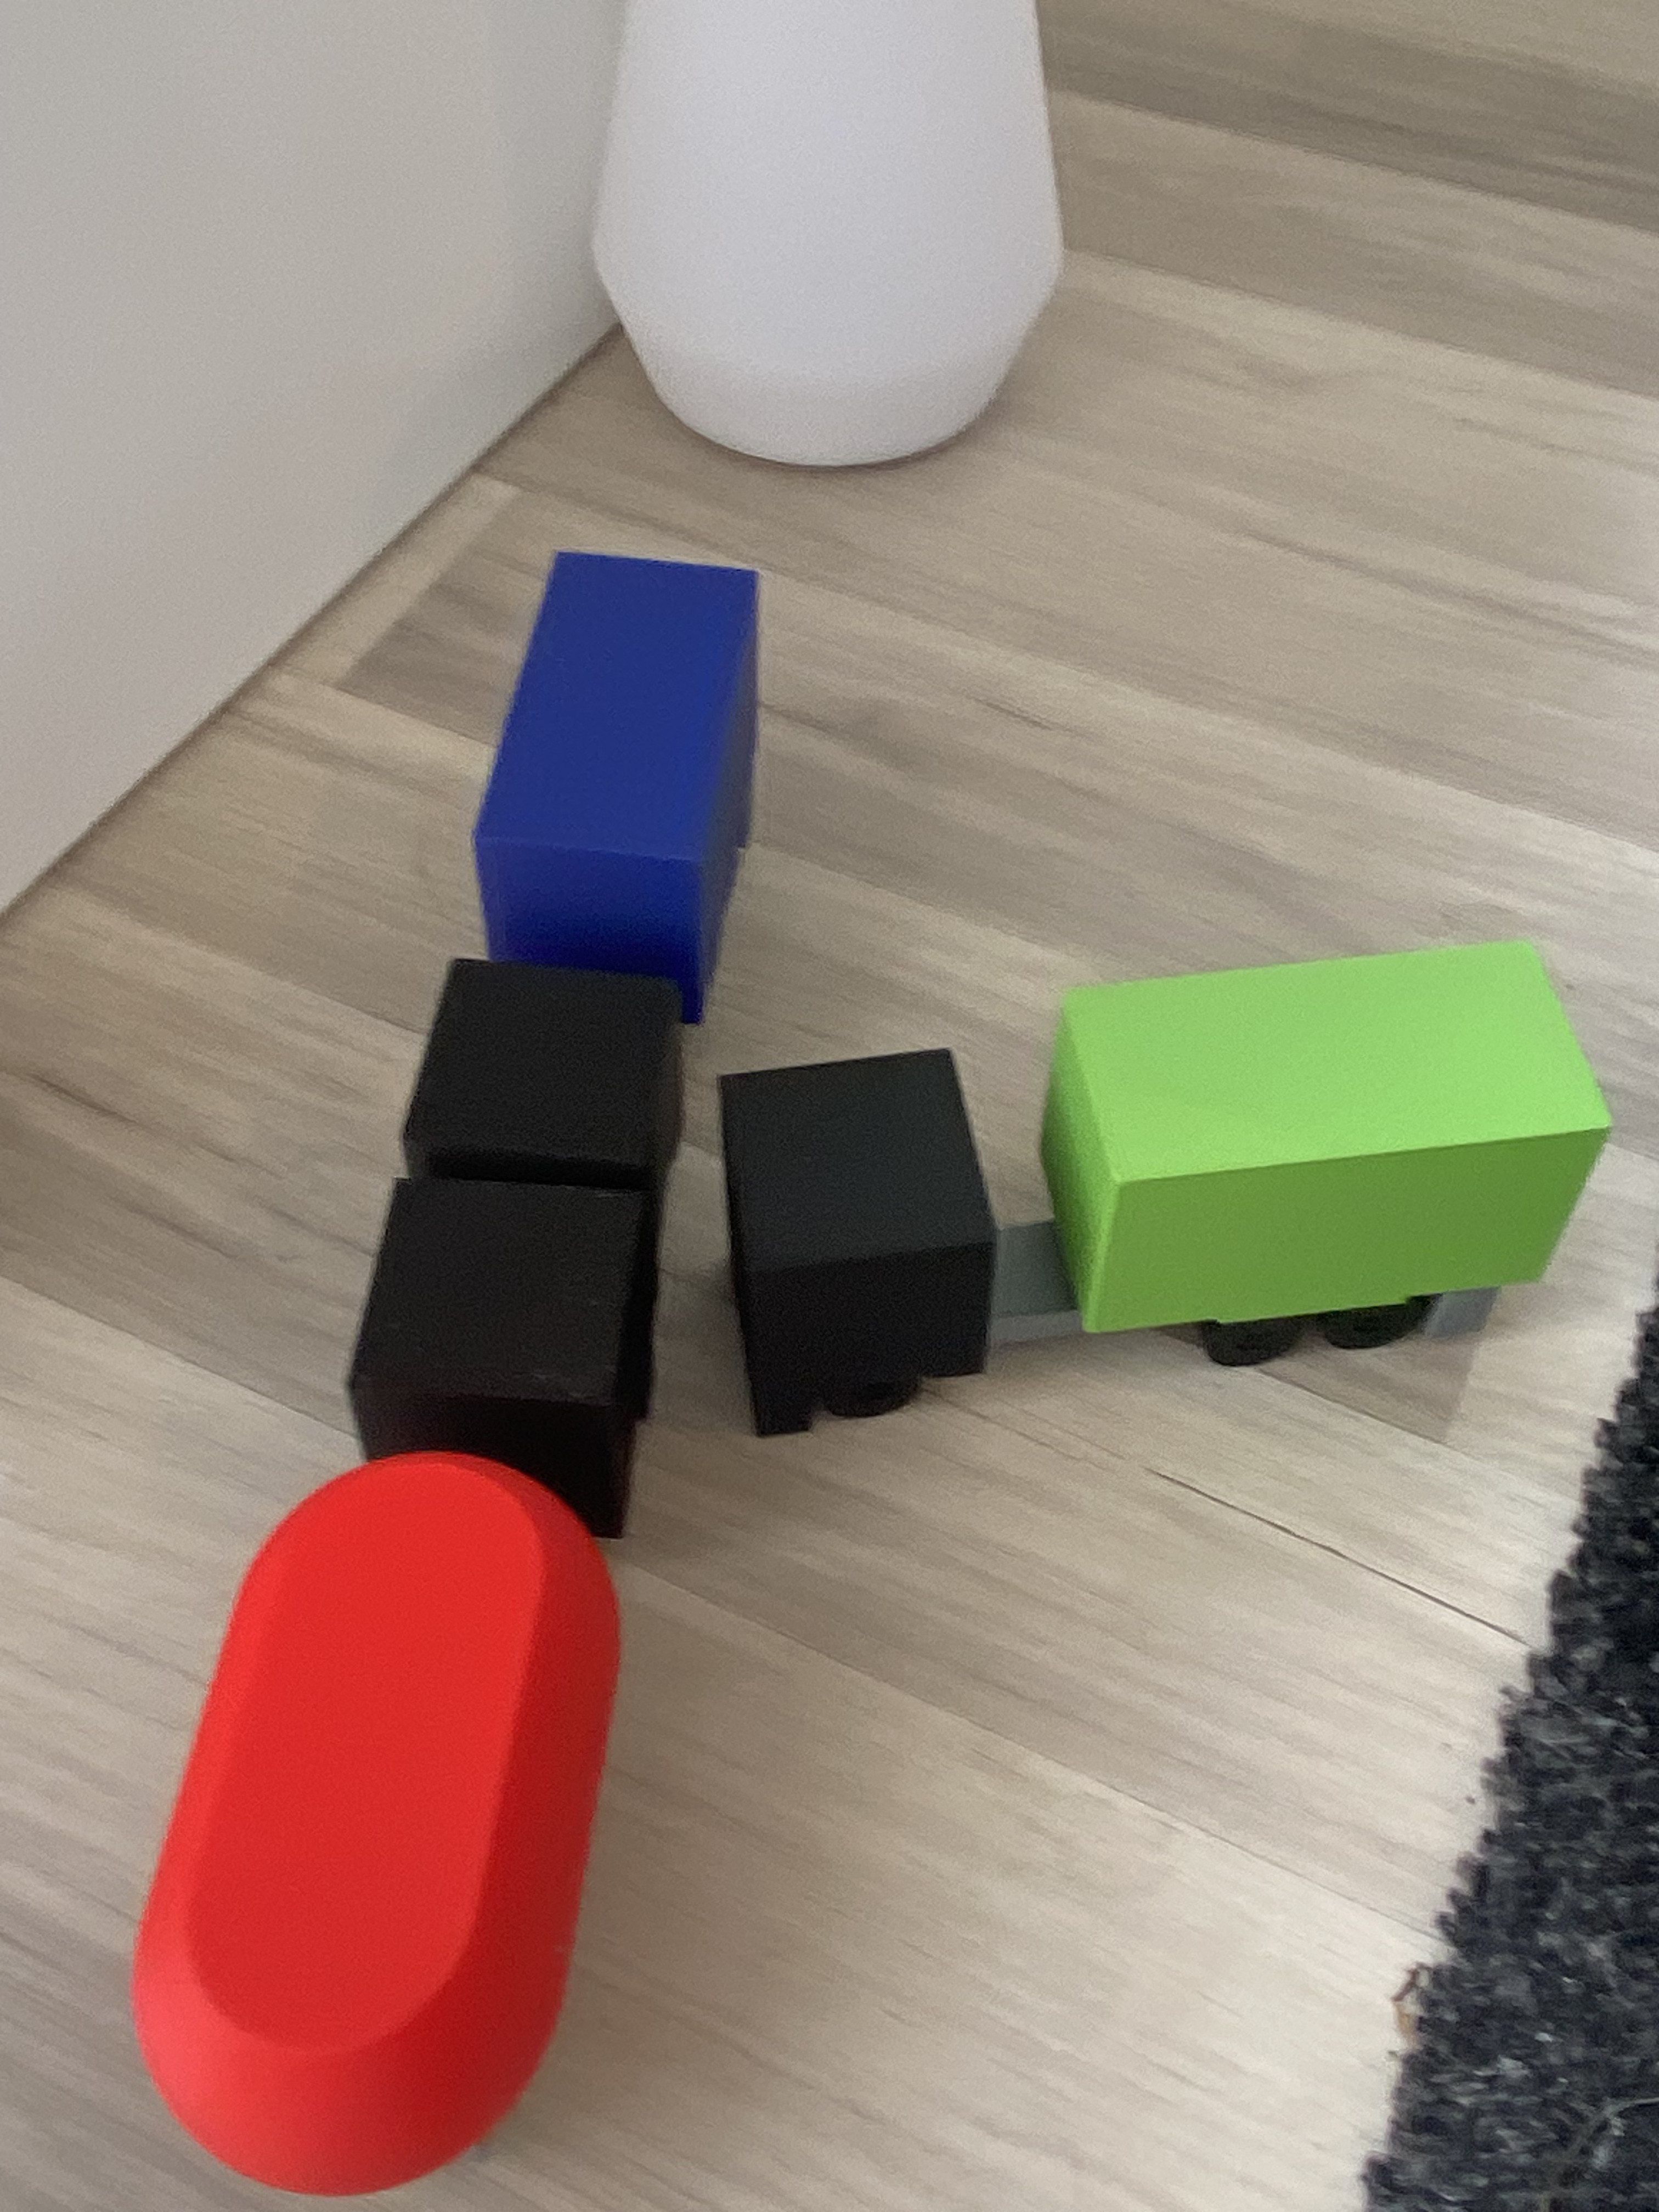blue_truck: (441, 528, 741, 1186)
green_truck: (967, 730, 1378, 1622)
red_truck: (179, 1157, 627, 2205)
